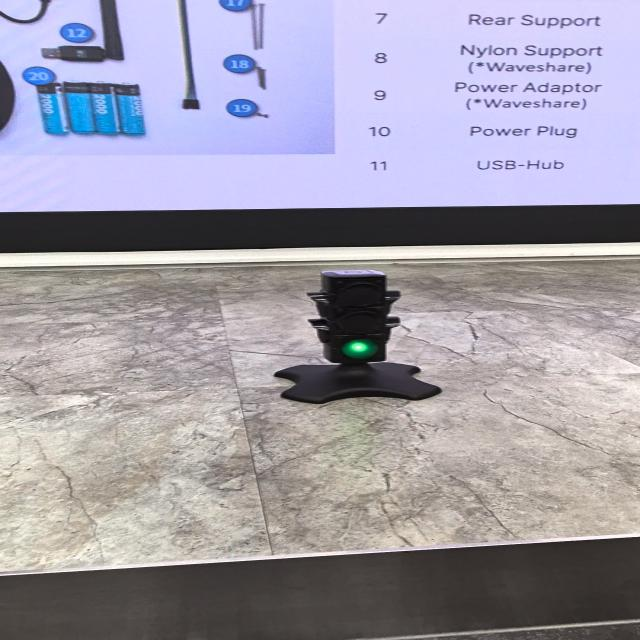green_light: (342, 340, 378, 358)
